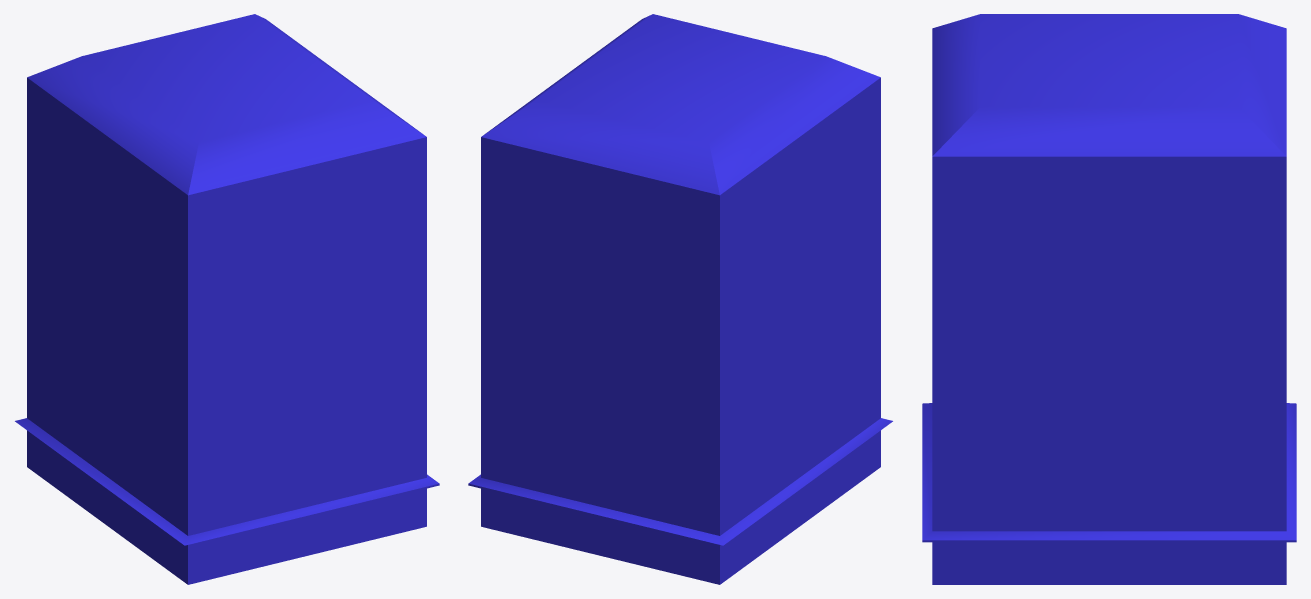
The model's file is cube.072_lev1_lev3.glb.
3 renders of one model, left to right at view 1: azimuth 30°, elevation 25°; view 2: azimuth 150°, elevation 25°; view 3: azimuth 270°, elevation 25°, orthographic. The views are drawn at different scales.
Parts seen in each view (by area): view 1: cube.072_lev1_lev3; view 2: cube.072_lev1_lev3; view 3: cube.072_lev1_lev3.
Boxes of the visible parts, x1=… form: cube.072_lev1_lev3: x1=15, y1=14, x2=439, y2=584; cube.072_lev1_lev3: x1=468, y1=14, x2=892, y2=584; cube.072_lev1_lev3: x1=922, y1=14, x2=1296, y2=584.
Bounding box in the file's own units: 9.88 × 15.51 × 11.43.
